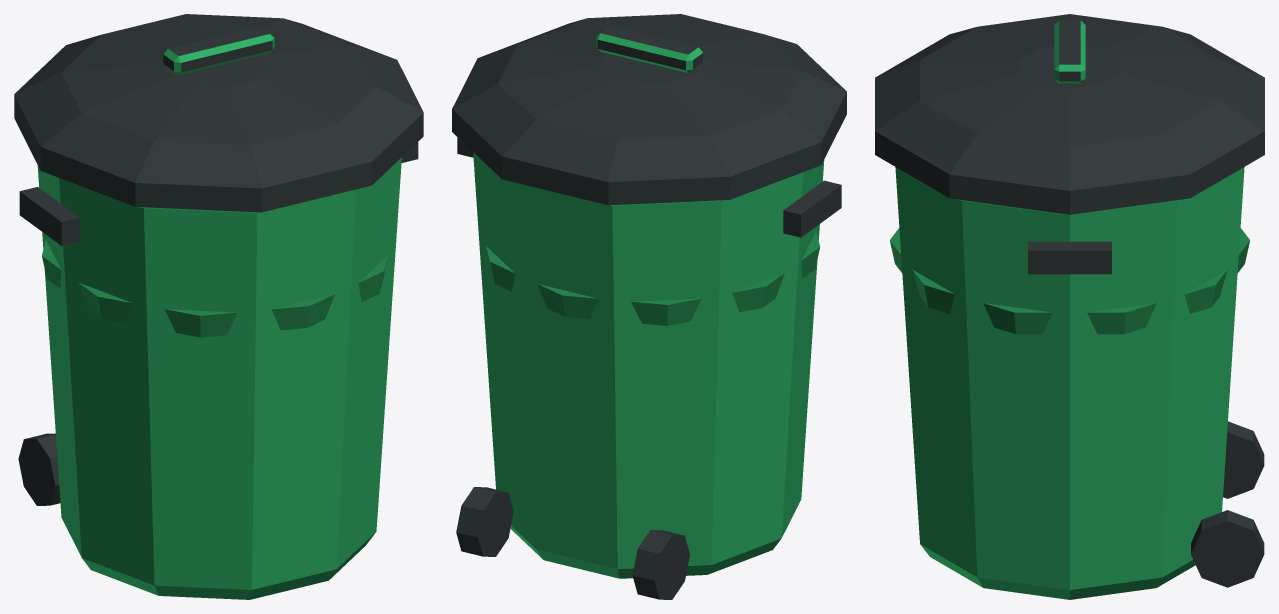
The model's file is bin.glb.
The picture shows the model from 3 angles, left to right: view 1: azimuth 30°, elevation 25°; view 2: azimuth 150°, elevation 25°; view 3: azimuth 270°, elevation 25°; orthographic projection. The views are drawn at different scales.
Visible parts, largest first — view 1: bin-m; view 2: bin-m; view 3: bin-m.
Boxes of the visible parts, <box> form: bin-m: <box>14,14,423,599</box>; bin-m: <box>452,14,846,599</box>; bin-m: <box>875,14,1264,599</box>.
Size of the model in its own units: 0.78 by 1.04 by 0.7418.
